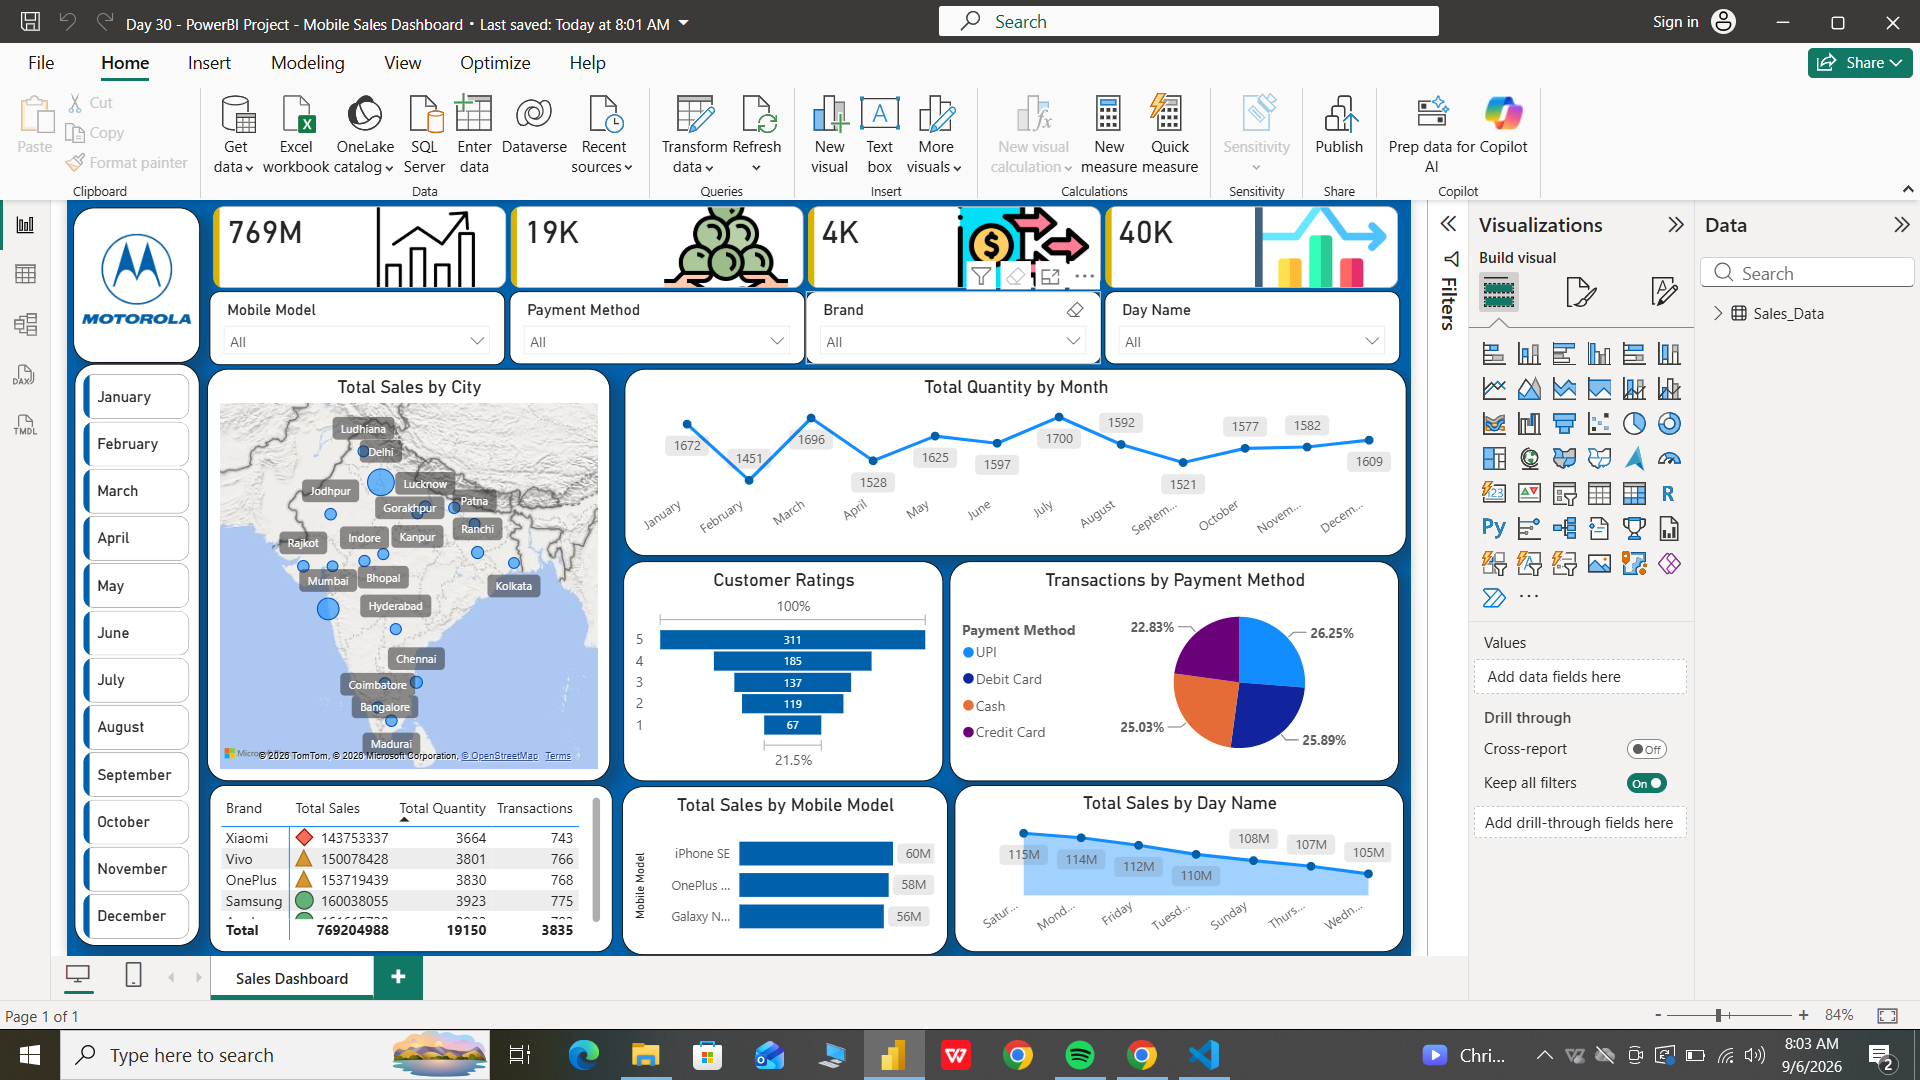

This screenshot's page, from the dashboard's own definition file:
{"tool":"powerbi","page":{"name":"Sales Dashboard ","canvas":[1280,720],"ordinal":0},"visuals":[{"type":"shape","box":[5.5,6.9,120.8,148.2],"z":0},{"type":"image","box":[9.6,16.5,113.9,116.6],"z":1000},{"type":"shape","box":[6.9,156.4,119.4,554.4],"z":2000},{"type":"advancedSlicerVisual","fields":{"Values":["Sales_Data.Date.Variation.Date Hierarchy.Month"]},"box":[11,160.5,111.1,548.9],"z":3000},{"type":"cardVisual","fields":{"Data":["Sales_Data.Total Sales","Sales_Data.Total Quantity","Sales_Data.Transactions","Sales_Data.Average"]},"box":[134,5.6,1140.1,83.7],"z":4000},{"type":"map","fields":{"Category":["Sales_Data.City"],"Size":["Sales_Data.Total Sales"]},"box":[132.9,160.8,384.1,393.1],"z":5000},{"type":"lineChart","fields":{"Y":["Sales_Data.Total Quantity"],"Category":["Sales_Data.Date.Variation.Date Hierarchy.Month","Sales_Data.Date.Variation.Date Hierarchy.Day"]},"box":[531,160.7,744.8,178.7],"z":6000},{"type":"clusteredBarChart","fields":{"Category":["Sales_Data.Mobile Model"],"Y":["Sales_Data.Total Sales"]},"box":[528.3,558.5,310.1,160.5],"z":7000},{"type":"pieChart","fields":{"Category":["Sales_Data.Payment Method"],"Y":["Sales_Data.Transactions"]},"box":[840.5,344,428.1,209.9],"z":8000},{"type":"funnel","title":"Customer Ratings","fields":{"Category":["Sales_Data.Customer Ratings"],"Y":["CountNonNull(Sales_Data.Customer Ratings)"]},"box":[529.7,344.4,304.6,209.9],"z":9000},{"type":"areaChart","fields":{"Category":["Sales_Data.Day Name"],"Y":["Sales_Data.Total Sales"]},"box":[845.3,557.1,428.1,159.2],"z":10000},{"type":"pivotTable","fields":{"Rows":["Sales_Data.Brand"],"Values":["Sales_Data.Total Sales","Sales_Data.Total Quantity","Sales_Data.Transactions"]},"box":[135.8,557.1,384.2,159.2],"z":11000},{"type":"slicer","fields":{"Values":["Sales_Data.Mobile Model"]},"box":[136.2,87.1,281.4,70.3],"z":12000},{"type":"slicer","fields":{"Values":["Sales_Data.Payment Method"]},"box":[421,87.1,281.4,69.2],"z":13000},{"type":"slicer","fields":{"Values":["Sales_Data.Brand"]},"box":[703.5,87.1,281.4,69.2],"z":14000},{"type":"slicer","fields":{"Values":["Sales_Data.Day Name"]},"box":[988.2,87.1,281.4,69.2],"z":15000}]}

Visuals, with their boxes on the page's 1280x720 design canvas (x1, y1, x2, y2). These are canvas units, not pixel positions in the 1920x1080 screenshot, which may show the page scaled, cropped or inside an application window:
shape: 6:7:126:155
image: 10:16:124:133
shape: 7:156:126:711
advancedSlicerVisual - Sales_Data.Date.Variation.Date Hierarchy.Month: 11:160:122:709
cardVisual - Sales_Data.Total Sales x Sales_Data.Total Quantity: 134:6:1274:89
map - Sales_Data.City x Sales_Data.Total Sales: 133:161:517:554
lineChart - Sales_Data.Total Quantity x Sales_Data.Date.Variation.Date Hierarchy.Month: 531:161:1276:339
clusteredBarChart - Sales_Data.Mobile Model x Sales_Data.Total Sales: 528:558:838:719
pieChart - Sales_Data.Payment Method x Sales_Data.Transactions: 840:344:1269:554
"Customer Ratings" funnel: 530:344:834:554
areaChart - Sales_Data.Day Name x Sales_Data.Total Sales: 845:557:1273:716
pivotTable - Sales_Data.Brand x Sales_Data.Total Sales: 136:557:520:716
slicer - Sales_Data.Mobile Model: 136:87:418:157
slicer - Sales_Data.Payment Method: 421:87:702:156
slicer - Sales_Data.Brand: 704:87:985:156
slicer - Sales_Data.Day Name: 988:87:1270:156
